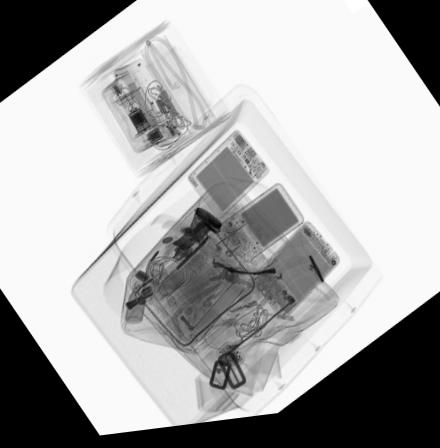Powerbank: (187, 133, 271, 226)
